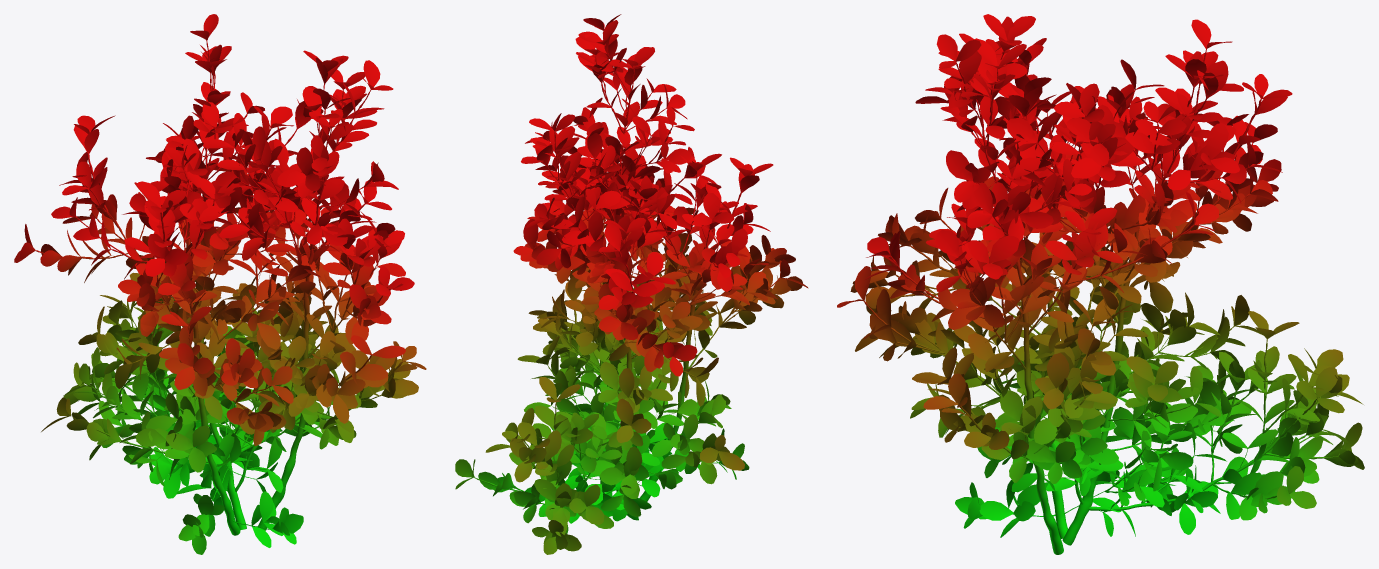
The model's file is Var9_LOD0.fbx.
3 views of the same model, side by side, from view 1: azimuth 30°, elevation 25°; view 2: azimuth 150°, elevation 25°; view 3: azimuth 270°, elevation 25° (orthographic). The views are drawn at different scales.
Parts seen in each view (by area): view 1: _r0y1_Var9_LOD0; view 2: _r0y1_Var9_LOD0; view 3: _r0y1_Var9_LOD0.
Boxes of the visible parts, x1,y1,x2,y2 form: _r0y1_Var9_LOD0: (14,14,426,554); _r0y1_Var9_LOD0: (455,14,808,554); _r0y1_Var9_LOD0: (837,14,1364,554).
Bounding box in the file's own units: 30.32 × 46.67 × 39.91.
